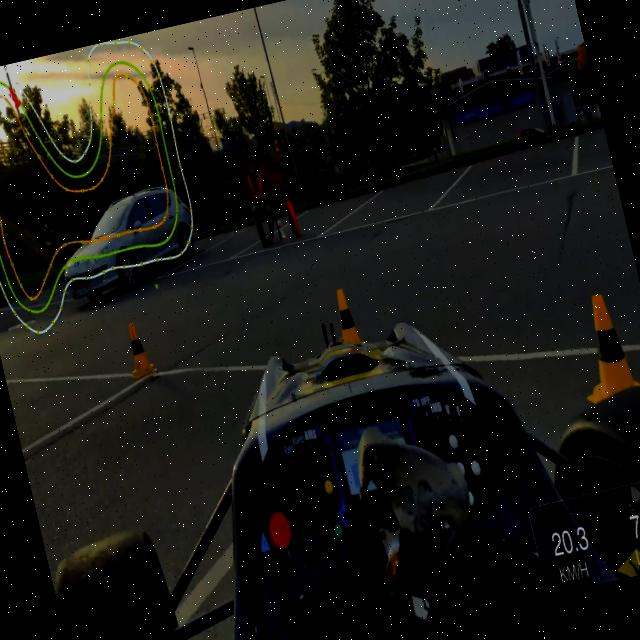yellow_cone: (572, 286, 640, 427), (320, 281, 379, 373), (119, 317, 159, 384)
